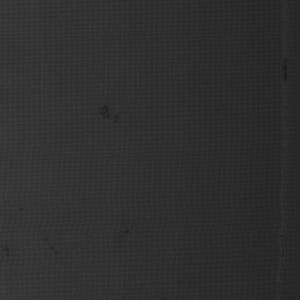Stain: (91, 100, 137, 137), (40, 235, 64, 263), (115, 225, 136, 255), (279, 52, 296, 88), (1, 243, 18, 274), (16, 206, 31, 219), (155, 293, 174, 300)
